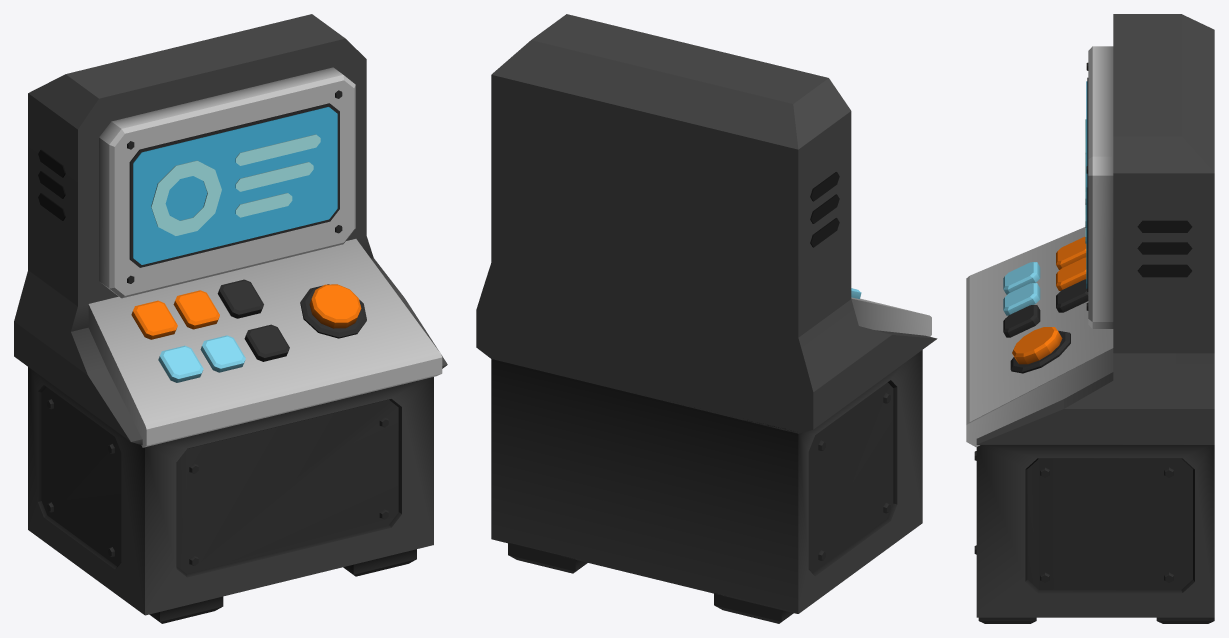
The model's file is terminal.glb.
3 renders of one model, left to right at view 1: azimuth 30°, elevation 25°; view 2: azimuth 150°, elevation 25°; view 3: azimuth 270°, elevation 25°, orthographic. The views are drawn at different scales.
Visible parts, largest first — view 1: terminal; view 2: terminal; view 3: terminal.
Part boxes in pixels (box(x1,y1,x2,y2)): terminal: box(14, 14, 447, 623); terminal: box(476, 14, 937, 623); terminal: box(966, 14, 1214, 623).
Bounding box in the file's own units: 0.9 × 1.3 × 0.6.
Materials: 1 (1 with a texture image).
